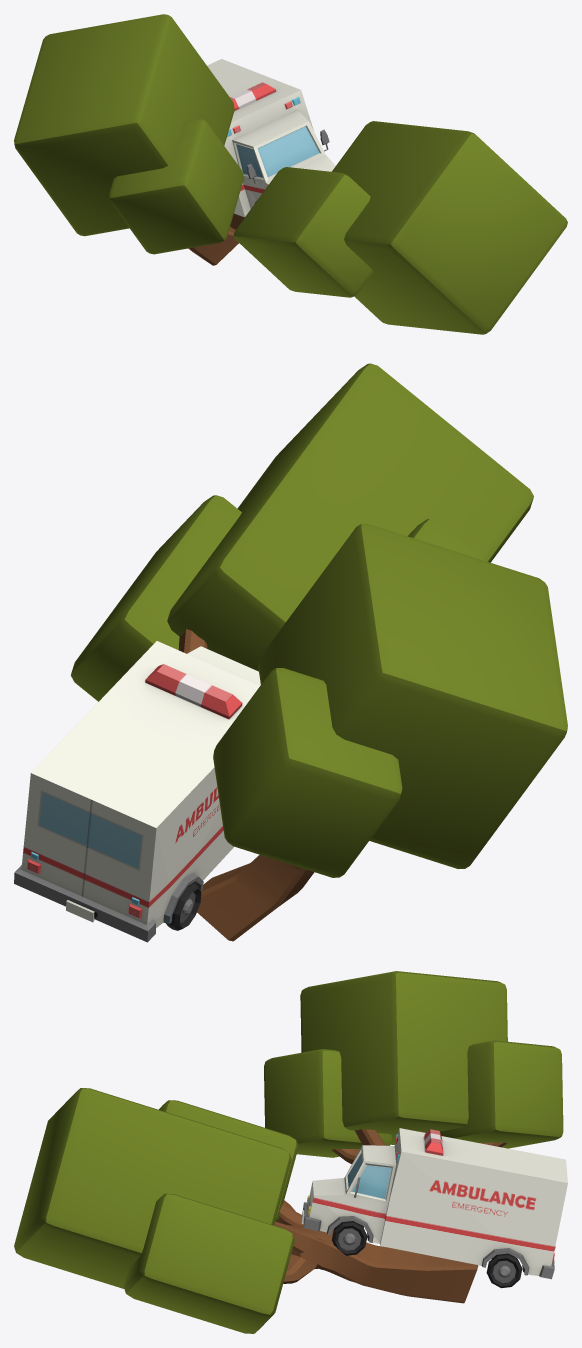
Rendered from crash_ambulance.glb.
3 views of the same model, one above another, from view 1: azimuth 30°, elevation 25°; view 2: azimuth 150°, elevation 25°; view 3: azimuth 270°, elevation 25° (orthographic). The views are drawn at different scales.
Visible parts, largest first — view 1: Tree_1.001, Tree_1, Ambulance_mesh; view 2: Tree_1, Tree_1.001, Ambulance_mesh; view 3: Tree_1.001, Tree_1, Ambulance_mesh.
Boxes of the visible parts, box(x1,y1,x2,y2) form: Tree_1.001: box(230, 121, 567, 334); Tree_1: box(14, 14, 243, 265); Ambulance_mesh: box(207, 59, 335, 217); Tree_1: box(197, 523, 567, 941); Tree_1.001: box(71, 363, 533, 701); Ambulance_mesh: box(14, 641, 260, 942); Tree_1.001: box(14, 1088, 478, 1333); Tree_1: box(264, 971, 563, 1163); Ambulance_mesh: box(301, 1128, 567, 1288).
Bounding box in the file's own units: 9.76 × 6.35 × 11.39.
Materials: 3 (3 with a texture image).
